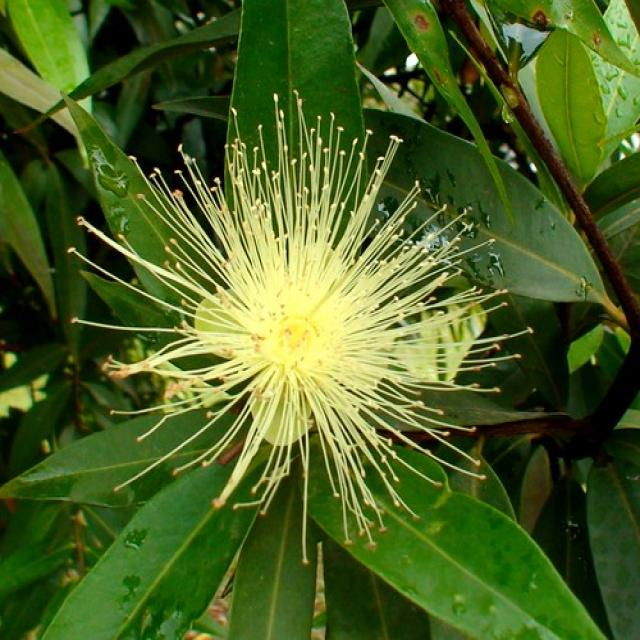Medicinal-Rose Apple: (1, 0, 640, 640)
